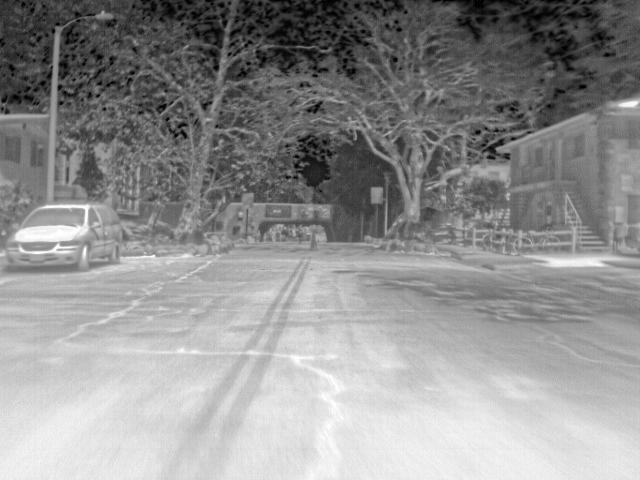car: (7, 200, 124, 270)
